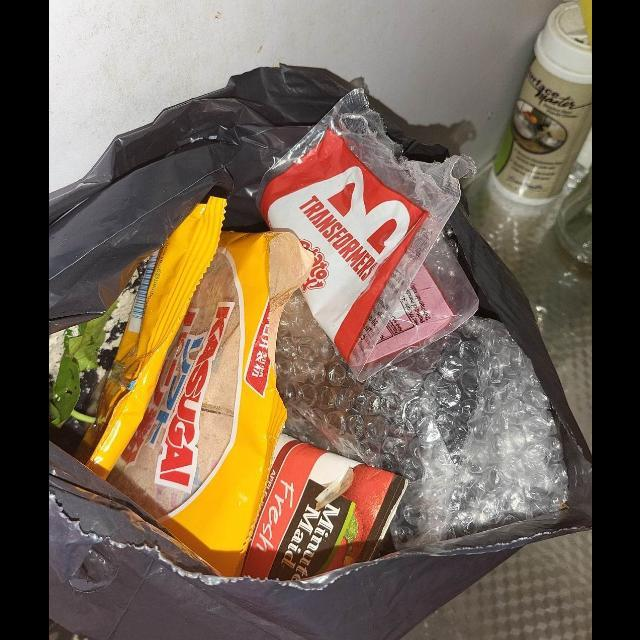paper: (240, 434, 408, 582)
plastic: (275, 290, 568, 557)
wrapper: (76, 197, 314, 579), (256, 89, 480, 376)
